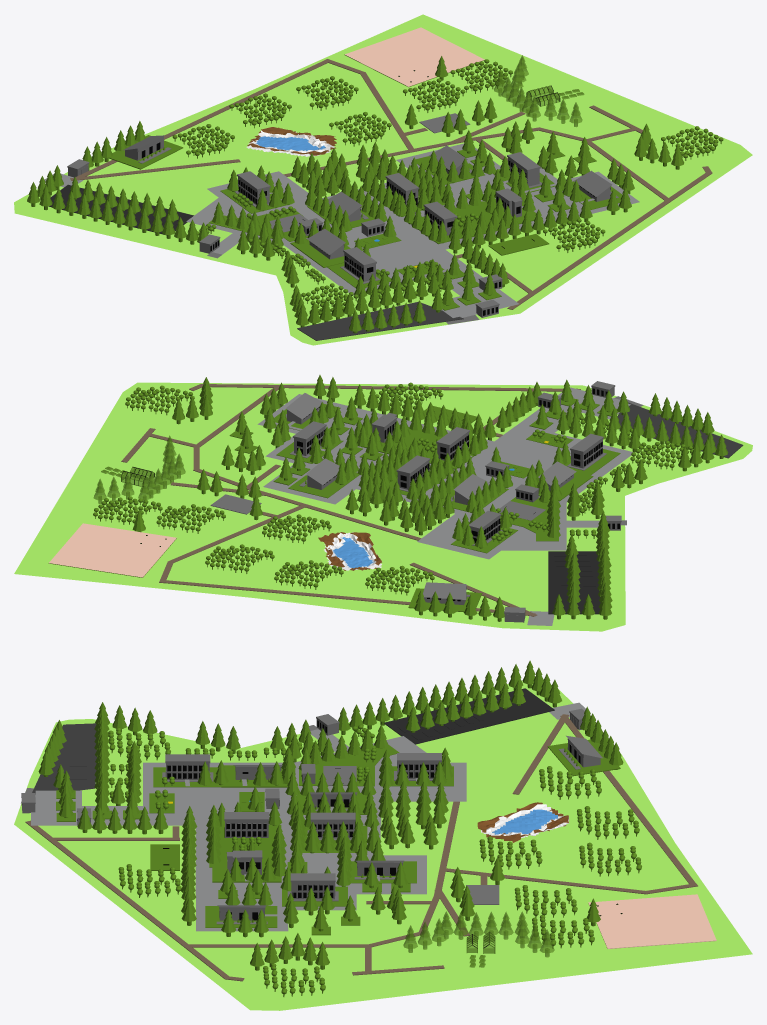
Rendered from Mapa_UTTECAM.glb.
3 renders of one model, top to bottom at view 1: azimuth 30°, elevation 25°; view 2: azimuth 150°, elevation 25°; view 3: azimuth 270°, elevation 25°, orthographic. The views are drawn at different scales.
Parts seen in each view (by area): view 1: Terreno Irregular del Campus, Pasillos, Camino, Zona Verde del Estacionamiento No.2, Zona Verde Oeste, Zona Verde Suroeste, Cancha de Beisbol, Zona Verde Este, Zona Verde Sureste, Zona Verde Este No.1, Zona Verde del Edificio D, Invernaderos (+30 smaller); view 2: Terreno Irregular del Campus, Pasillos, Camino, Zona Verde Oeste, Cancha de Beisbol, Zona Verde Este, Zona Verde Suroeste, Zona Verde Este No.1, Zona Verde Sureste, Zona Verde del Estacionamiento No.2, Zona Verde del Edificio D, Zona Verde del Edificio T (+35 smaller); view 3: Terreno Irregular del Campus, Pasillos, Camino, Zona Verde del Estacionamiento No.2, Cancha de Beisbol, Zona Verde Oeste, Zona Verde Suroeste, Zona Verde Este, Invernaderos, Estacionamiento Norte, Zona Verde Este No.1, Zona Verde Sureste (+31 smaller).
Part boxes in pixels (x1,y1,x2,y2): Terreno Irregular del Campus: (14,14,752,345); Pasillos: (186,143,639,317); Camino: (70,59,712,309); Zona Verde del Estacionamiento No.2: (27,165,216,244); Zona Verde Oeste: (289,259,453,327); Zona Verde Suroeste: (448,187,631,287); Cancha de Beisbol: (344,27,484,87); Zona Verde Este: (172,76,391,158); Zona Verde Sureste: (403,59,512,136); Zona Verde Este No.1: (291,142,397,196); Zona Verde del Edificio D: (444,178,542,237); Invernaderos: (494,55,584,126); Terreno Irregular del Campus: (14,382,752,631); Pasillos: (257,387,632,559); Camino: (121,384,580,616); Zona Verde Oeste: (556,399,728,471); Cancha de Beisbol: (48,510,176,577); Zona Verde Este: (205,514,434,595); Zona Verde Suroeste: (313,375,541,440); Zona Verde Este No.1: (345,476,454,535); Zona Verde Sureste: (93,469,262,533); Zona Verde del Estacionamiento No.2: (552,512,612,619); Zona Verde del Edificio D: (354,408,447,458); Zona Verde del Edificio T: (358,441,453,499); Terreno Irregular del Campus: (14,680,752,1010); Pasillos: (31,729,466,931); Camino: (25,714,697,981); Zona Verde del Estacionamiento No.2: (338,660,561,740); Cancha de Beisbol: (586,894,716,948); Zona Verde Oeste: (94,702,170,805); Zona Verde Suroeste: (77,806,197,925); Zona Verde Este: (479,766,641,876); Invernaderos: (403,911,554,967); Estacionamiento Norte: (384,688,554,744); Zona Verde Este No.1: (378,780,448,849); Zona Verde Sureste: (450,857,594,948).
Bounding box in the file's own units: 170 × 8.13 × 160.
